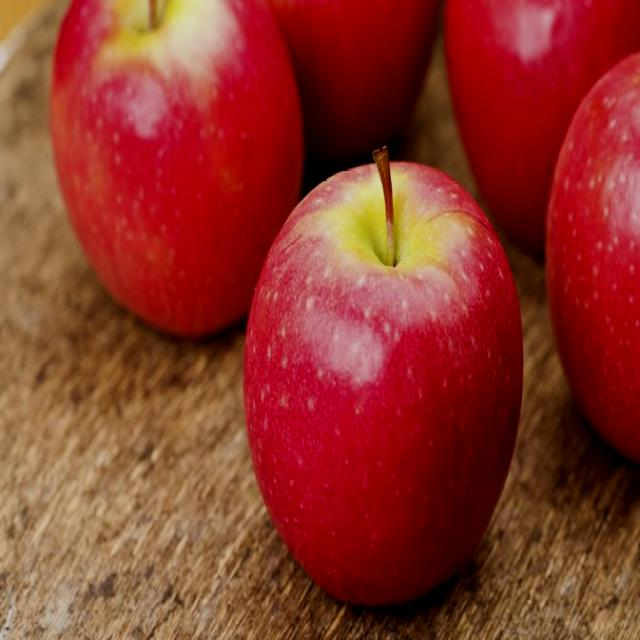apple: (247, 156, 524, 608), (35, 0, 320, 344)
